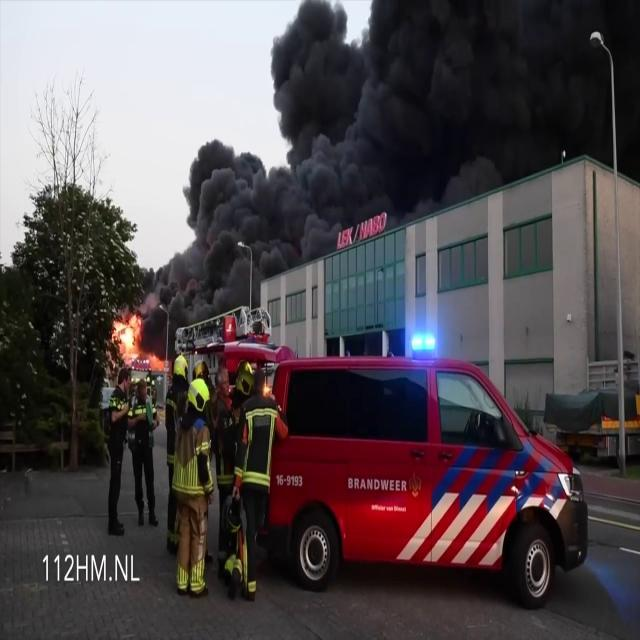Fire: (109, 310, 145, 358)
Smoke: (161, 0, 588, 252)
